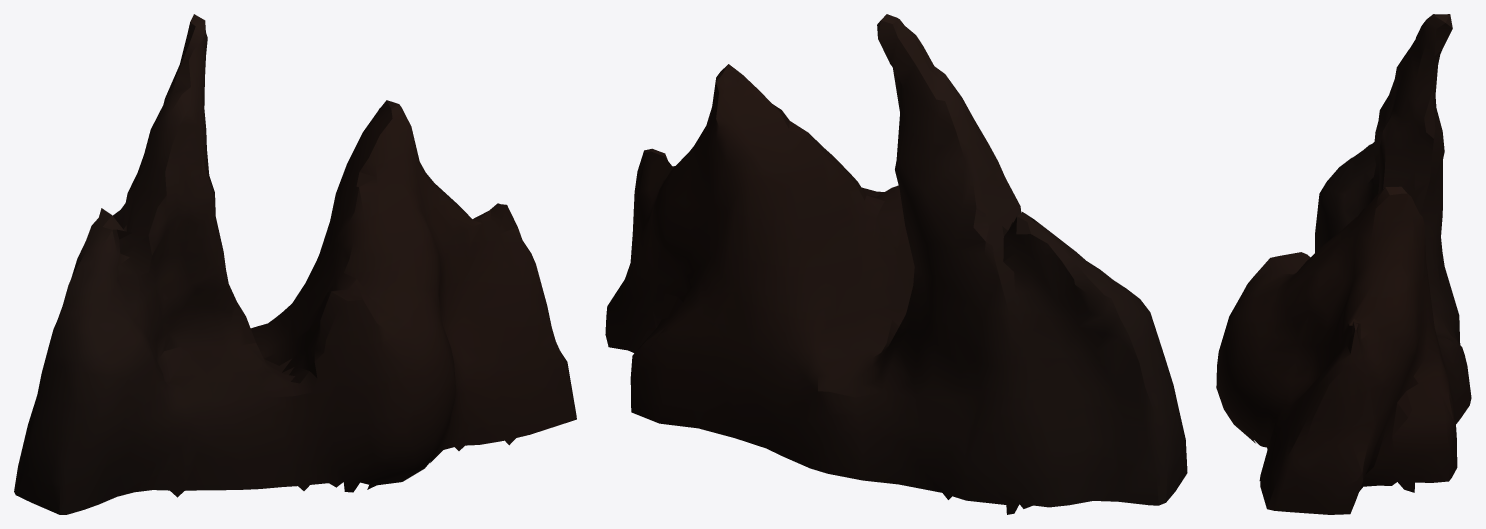
The model's file is Backgroud_02.fbx.
The picture shows the model from 3 angles, left to right: view 1: azimuth 30°, elevation 25°; view 2: azimuth 150°, elevation 25°; view 3: azimuth 270°, elevation 25°; orthographic projection. The views are drawn at different scales.
Parts seen in each view (by area): view 1: backDrop2; view 2: backDrop2; view 3: backDrop2.
Boxes of the visible parts, <box> form: backDrop2: <box>14,14,576,514</box>; backDrop2: <box>605,14,1187,514</box>; backDrop2: <box>1216,14,1471,514</box>.
Size of the model in its own units: 1520 by 1173 by 716.
1 material, 1 textured.
